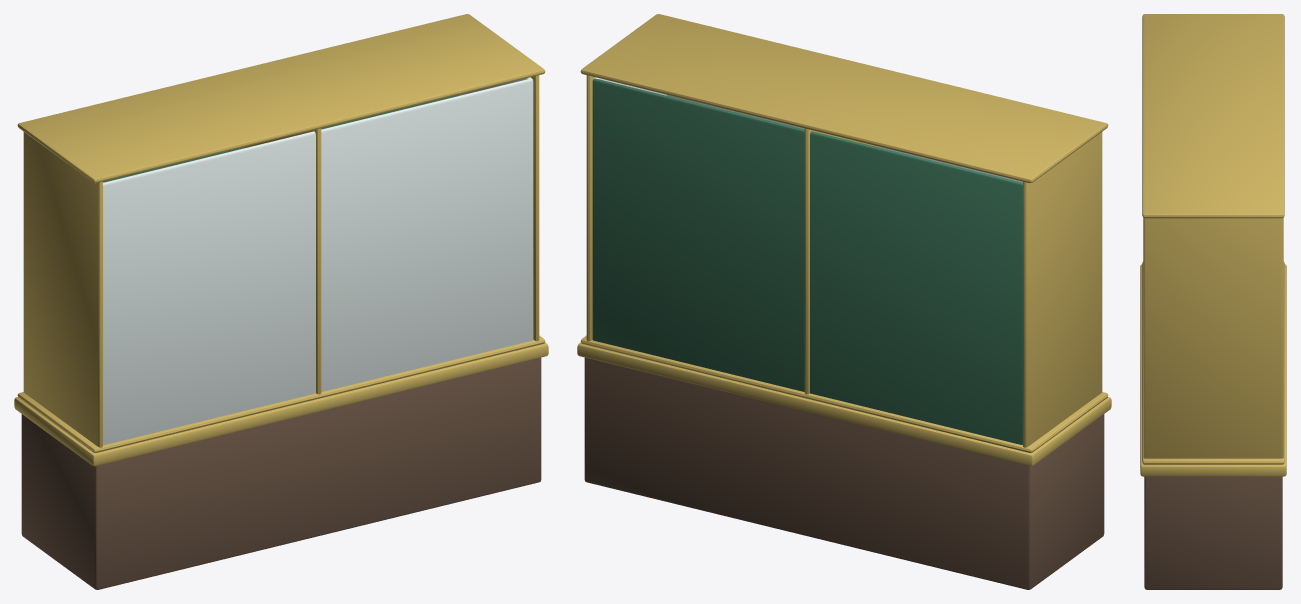
The model's file is premium_case.glb.
3 views of the same model, side by side, from view 1: azimuth 30°, elevation 25°; view 2: azimuth 150°, elevation 25°; view 3: azimuth 270°, elevation 25° (orthographic). The views are drawn at different scales.
Parts seen in each view (by area): view 1: premium_case; view 2: premium_case; view 3: premium_case.
Part boxes in pixels (x1=…): premium_case: x1=14, y1=14, x2=548, y2=589; premium_case: x1=577, y1=14, x2=1111, y2=589; premium_case: x1=1140, y1=14, x2=1286, y2=589.
Bounding box in the file's own units: 2.3 × 1.99 × 0.7.
